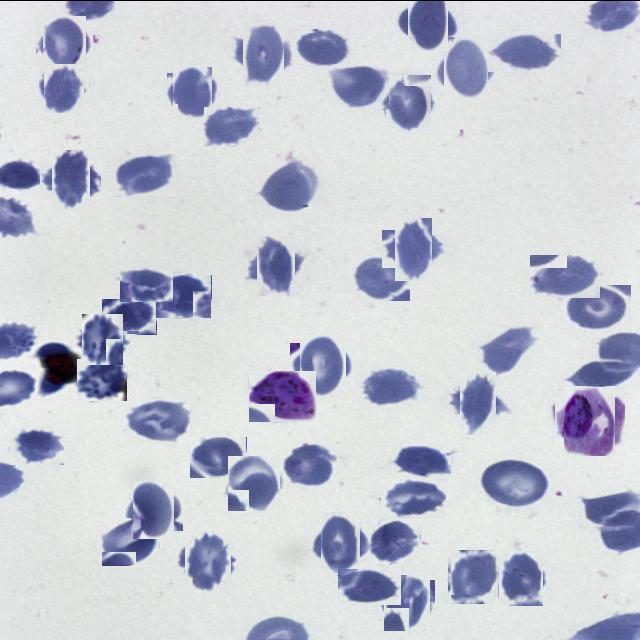difficult: (559, 390, 620, 450)
red blood cell: (477, 456, 551, 507), (563, 284, 631, 330), (530, 254, 601, 298), (260, 160, 320, 212), (295, 337, 350, 393), (480, 324, 539, 374), (439, 41, 493, 95), (181, 534, 235, 588), (227, 456, 281, 510), (488, 33, 562, 72), (126, 398, 191, 442), (237, 27, 290, 80), (329, 63, 390, 109), (102, 517, 160, 565), (113, 153, 177, 196), (382, 77, 434, 129), (315, 517, 367, 569), (380, 576, 432, 628), (352, 254, 410, 300), (388, 222, 439, 274), (450, 550, 500, 602), (280, 442, 336, 488), (381, 478, 446, 517), (155, 274, 212, 318), (40, 18, 90, 68), (496, 553, 546, 603), (250, 240, 300, 290), (129, 484, 179, 534), (454, 378, 504, 428), (46, 154, 95, 203), (190, 436, 247, 478), (361, 366, 420, 406), (403, 0, 454, 46), (338, 568, 401, 604), (296, 28, 352, 68), (204, 106, 260, 146), (79, 315, 126, 361), (370, 520, 421, 562), (170, 69, 216, 115), (77, 358, 127, 400), (10, 426, 64, 464), (102, 298, 157, 334), (42, 65, 86, 110), (392, 445, 451, 478), (119, 269, 172, 301)
schizont: (249, 370, 317, 422)
